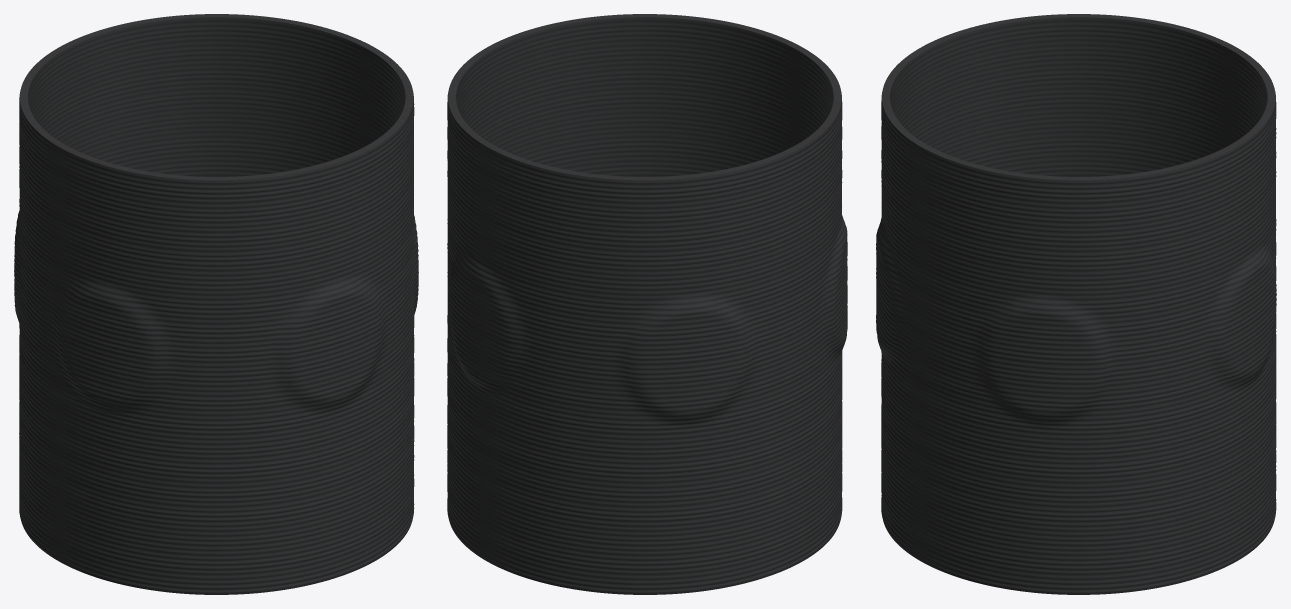
The model's file is cup-asphalt.glb.
3 renders of one model, left to right at view 1: azimuth 30°, elevation 25°; view 2: azimuth 150°, elevation 25°; view 3: azimuth 270°, elevation 25°, orthographic.
Visible parts, largest first — view 1: outer-wall, inner-wall, rim-cap; view 2: outer-wall, inner-wall, rim-cap; view 3: outer-wall, inner-wall, rim-cap.
Boxes of the visible parts, bbox=[...] form: outer-wall: bbox=[14, 40, 418, 594]; inner-wall: bbox=[28, 17, 405, 180]; rim-cap: bbox=[20, 14, 413, 180]; outer-wall: bbox=[447, 41, 847, 594]; inner-wall: bbox=[456, 17, 833, 180]; rim-cap: bbox=[448, 14, 841, 180]; outer-wall: bbox=[876, 42, 1276, 594]; inner-wall: bbox=[890, 17, 1267, 180]; rim-cap: bbox=[882, 14, 1275, 180].
Size of the model in its own units: 0.0757 by 0.086 by 0.0754.
2 materials, 2 textured.
